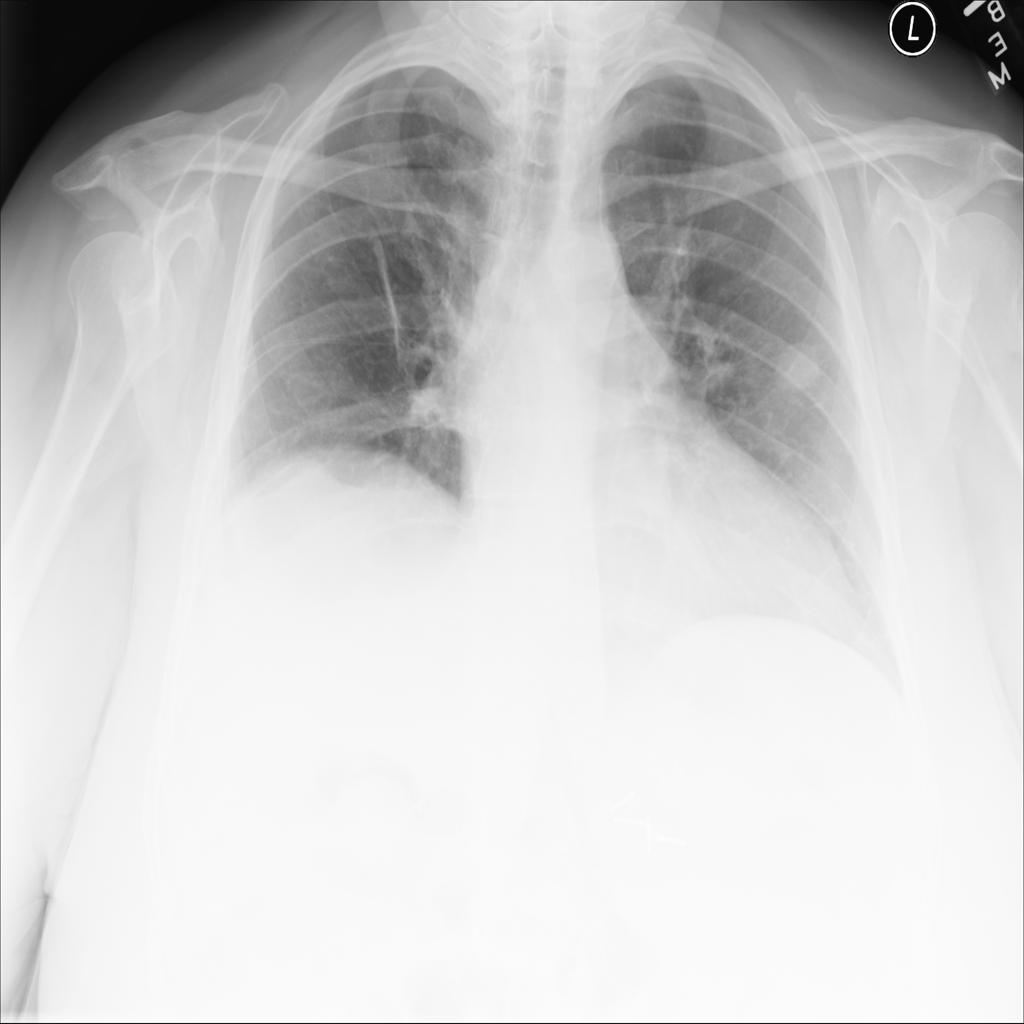nodule: (766, 325, 834, 407)
